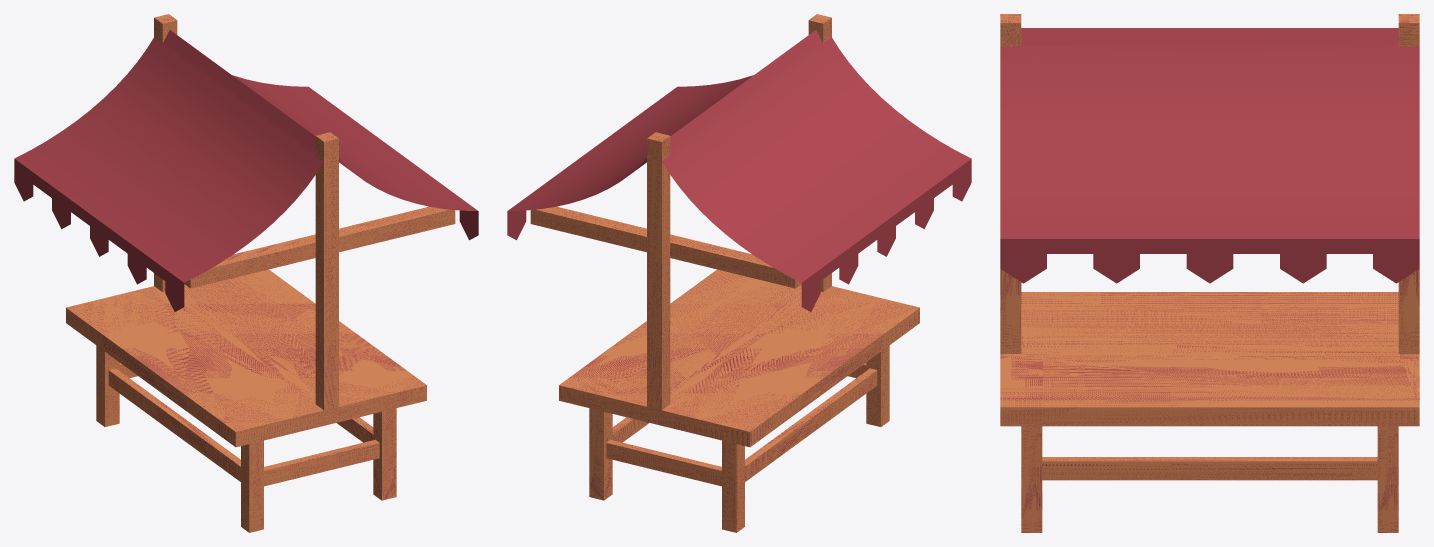
Rendered from stallRed.dae.
The picture shows the model from 3 angles, left to right: view 1: azimuth 30°, elevation 25°; view 2: azimuth 150°, elevation 25°; view 3: azimuth 270°, elevation 25°; orthographic projection. The views are drawn at different scales.
Visible parts, largest first — view 1: stallRed; view 2: stallRed; view 3: stallRed.
Boxes of the visible parts, bbox=[...] form: stallRed: bbox=[14, 14, 478, 532]; stallRed: bbox=[507, 14, 971, 532]; stallRed: bbox=[1000, 14, 1419, 532].
Bounding box in the file's own units: 1 × 1.24 × 1.
